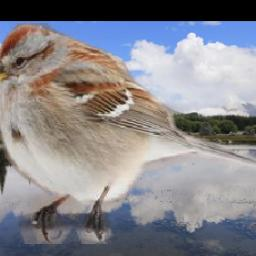Sparrow: (0, 24, 256, 245)
